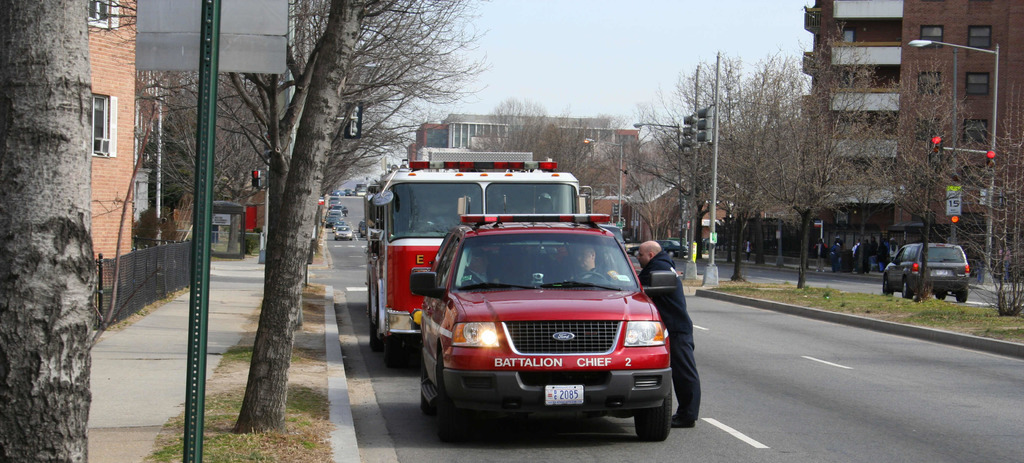cars: (409, 216, 691, 442), (877, 236, 974, 299), (626, 237, 688, 257), (326, 208, 343, 221), (332, 224, 349, 237), (328, 205, 346, 216), (326, 216, 339, 226), (327, 196, 340, 206), (358, 221, 364, 237), (331, 219, 344, 226), (357, 187, 366, 195)
